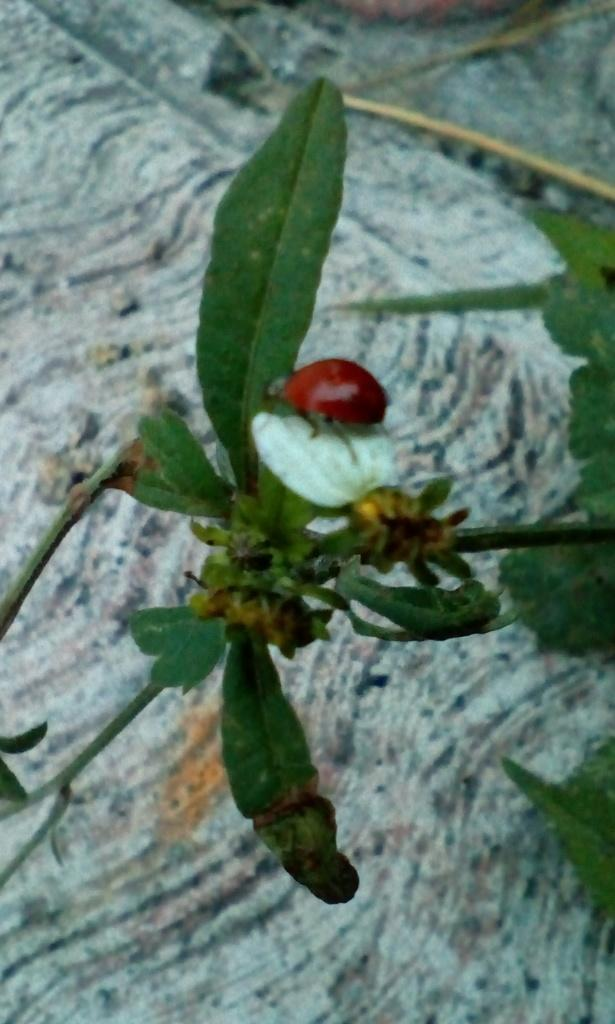ladybug: (266, 357, 393, 469)
